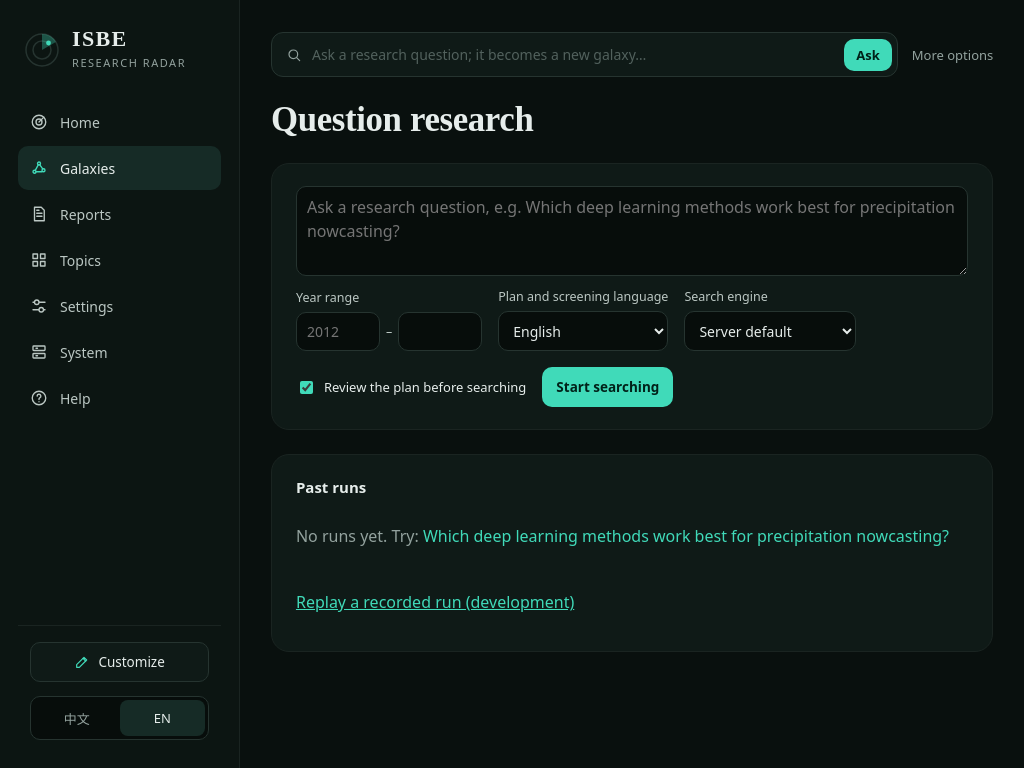
Test: app shell › opens straight into the shell in local mode, with every administrator page
This screenshot has width=1024, height=768.
expect the heading "Question research" is shown: met, box x1=271 y1=101 x2=533 y2=139
expect the navigation bar named "Main" does not show "Runs & LLM": met, box x1=0 y1=0 x2=240 y2=767
Note: The classic pages wait under System.
Click the link "System" at (69, 352), box x1=30 y1=342 x2=108 y2=362
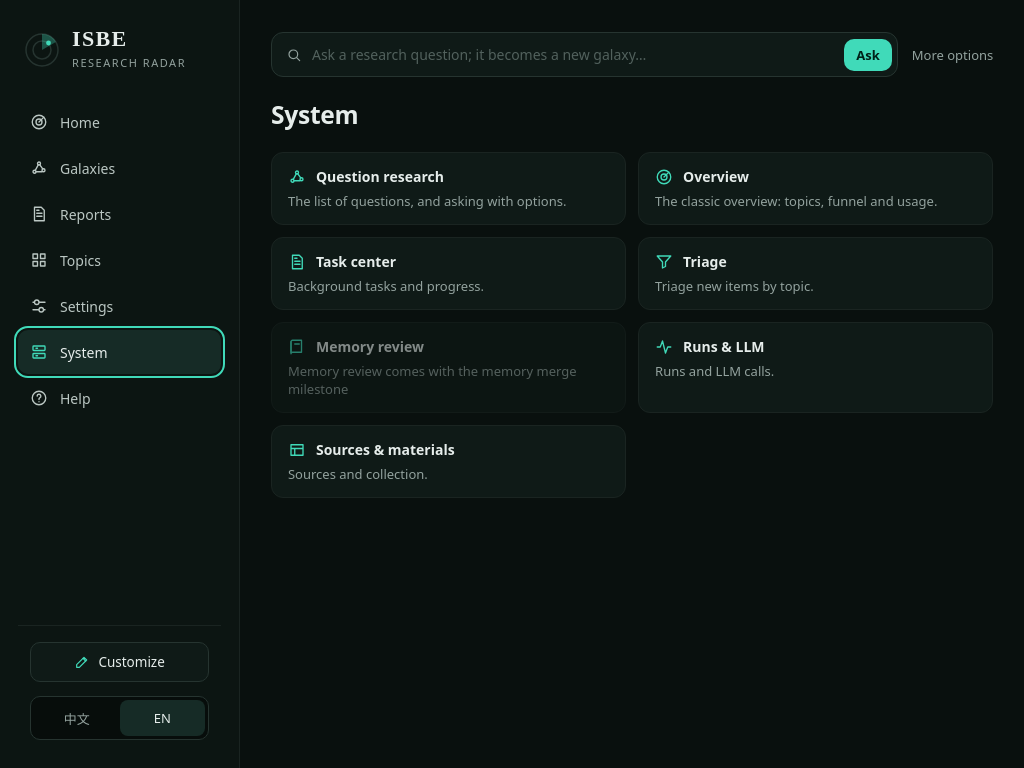
expect the heading "System" is shown: met, box x1=271 y1=101 x2=358 y2=128
